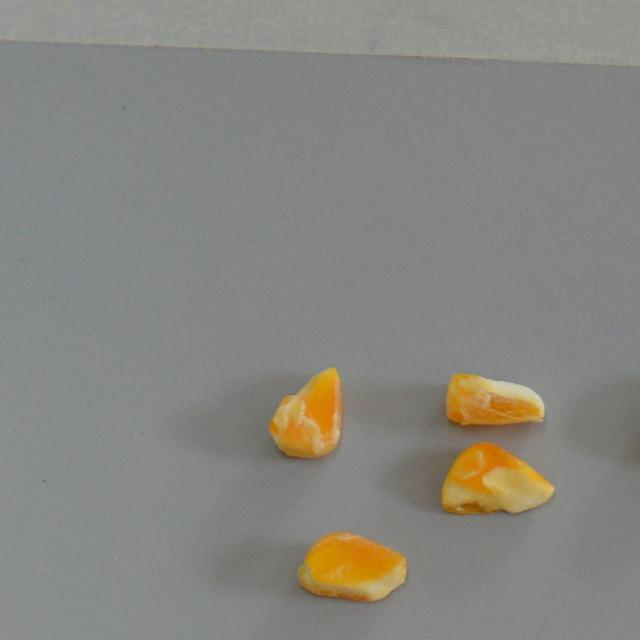pelicula: (440, 440, 556, 521), (296, 530, 407, 601), (268, 363, 344, 460), (443, 371, 546, 428)
